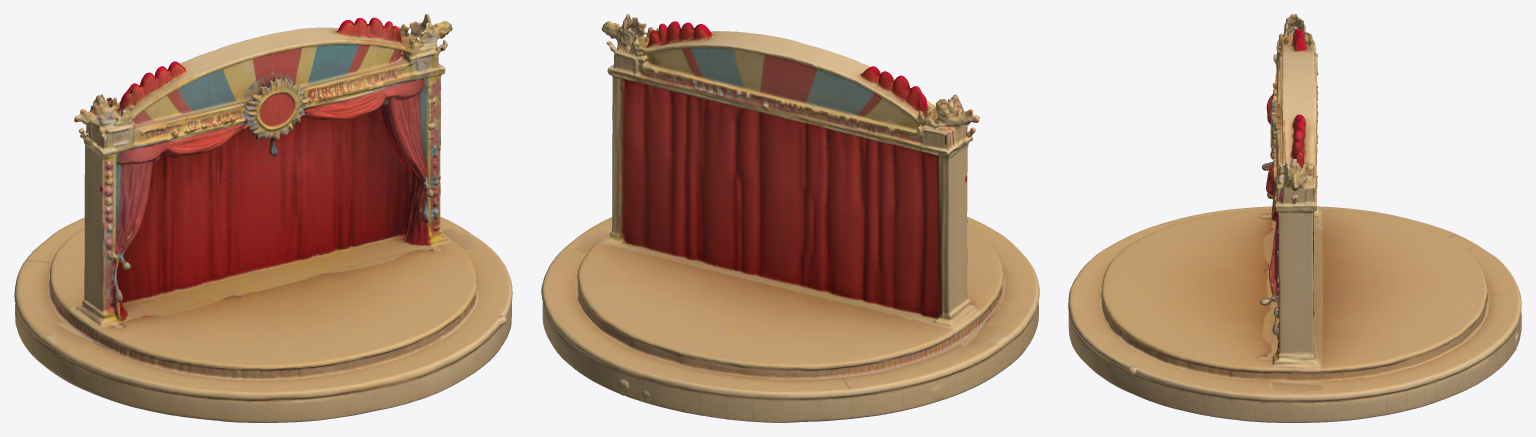
File: a_circus_style_stage__0812035846_texture.fbx
The picture shows the model from 3 angles, left to right: view 1: azimuth 30°, elevation 25°; view 2: azimuth 150°, elevation 25°; view 3: azimuth 270°, elevation 25°; orthographic projection. The views are drawn at different scales.
Visible parts, largest first — view 1: input; view 2: input; view 3: input.
Part boxes in pixels (x1=…): input: x1=14, y1=14, x2=512, y2=422; input: x1=541, y1=14, x2=1039, y2=422; input: x1=1068, y1=14, x2=1521, y2=422.
Size of the model in its own units: 199 by 122 by 199.
1 material, 1 textured.
